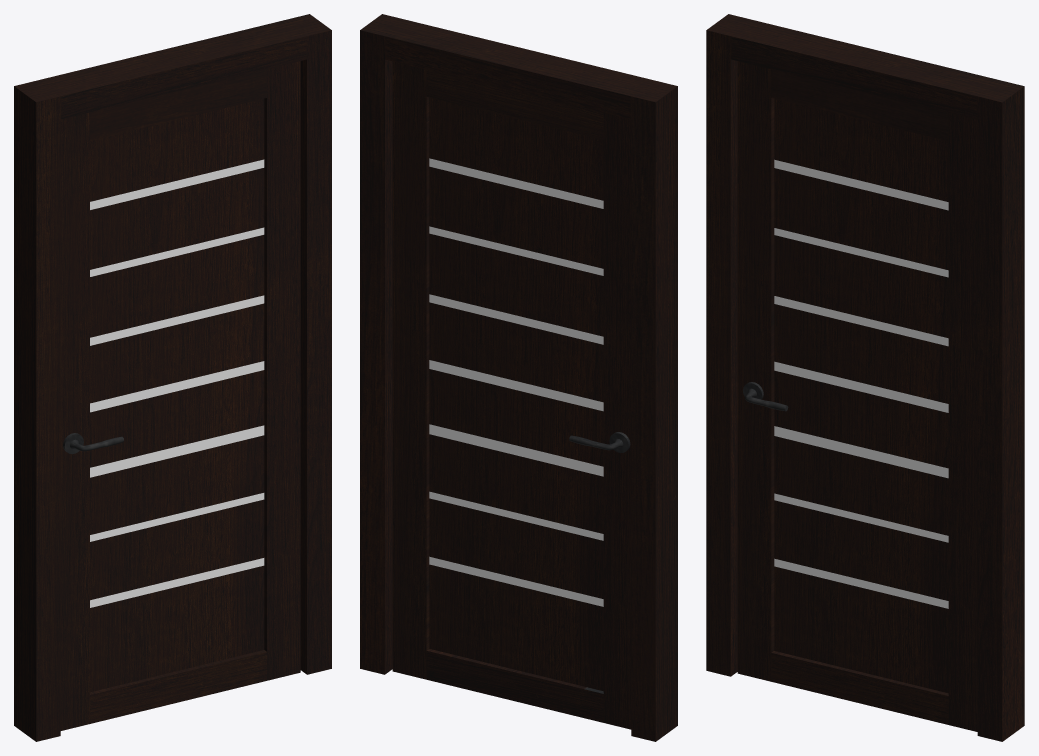
The model's file is Door.FBX.
3 views of the same model, side by side, from view 1: azimuth 30°, elevation 25°; view 2: azimuth 150°, elevation 25°; view 3: azimuth 330°, elevation 25° (orthographic).
Parts seen in each view (by area): view 1: Door, door frame; view 2: Door, door frame; view 3: Door, door frame.
Part boxes in pixels (box(x1,y1,x2,y2)): Door: box(60, 61, 300, 730); door frame: box(14, 14, 331, 741); Door: box(392, 61, 631, 729); door frame: box(360, 14, 677, 741); Door: box(737, 61, 977, 731); door frame: box(706, 14, 1024, 741).
Bounding box in the file's own units: 96.56 × 17.03 × 200.
Materials: 1 (1 with a texture image).
